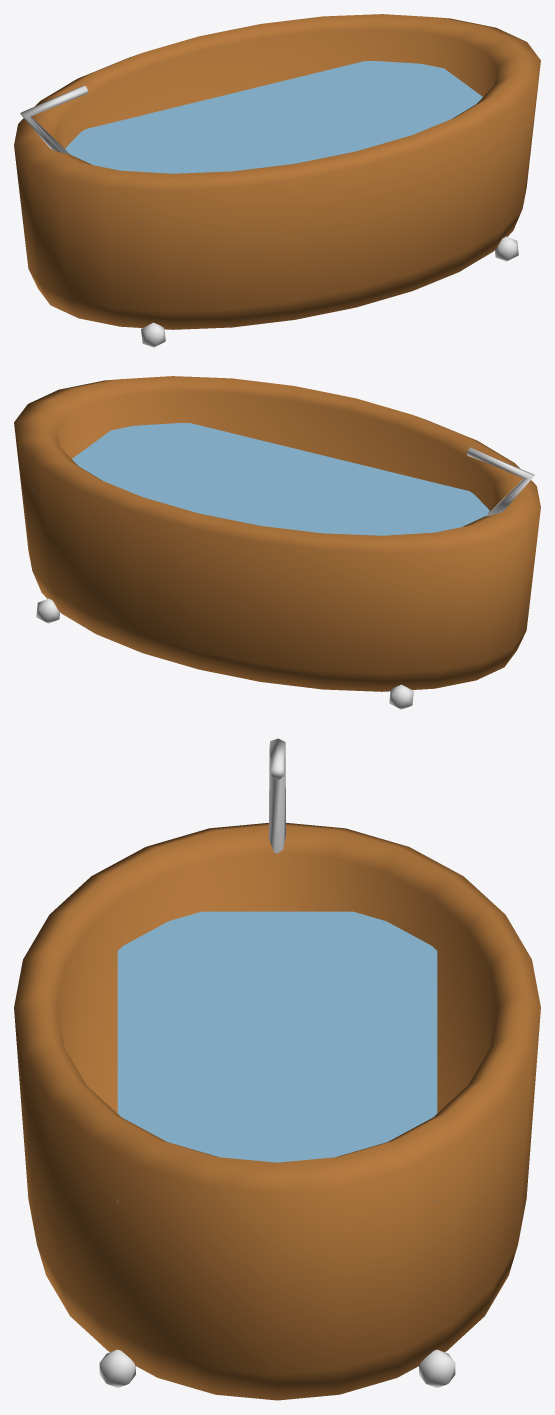
File: lihzahrd_bathtub_v0.glb
The picture shows the model from 3 angles, top to bottom: view 1: azimuth 30°, elevation 25°; view 2: azimuth 150°, elevation 25°; view 3: azimuth 270°, elevation 25°; orthographic projection. The views are drawn at different scales.
Parts seen in each view (by area): view 1: lihzahrd_bathtub_v0; view 2: lihzahrd_bathtub_v0; view 3: lihzahrd_bathtub_v0.
Boxes of the visible parts, left/top/right/bottom form: lihzahrd_bathtub_v0: left=14, top=14, right=540, bottom=347; lihzahrd_bathtub_v0: left=14, top=376, right=540, bottom=709; lihzahrd_bathtub_v0: left=14, top=738, right=540, bottom=1400.
Bounding box in the file's own units: 2.51 × 1.08 × 1.49.
